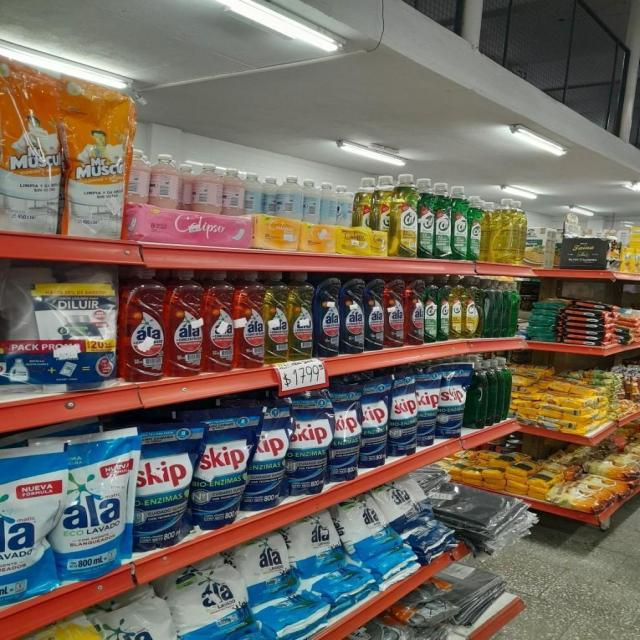ala_conc_amarillo: (265, 270, 288, 364), (289, 271, 313, 360)
ala_conc_azul: (314, 276, 340, 358), (341, 276, 364, 354), (366, 277, 384, 351)
ala_conc_rojo: (120, 267, 164, 382), (166, 269, 204, 378), (204, 270, 234, 373), (235, 270, 264, 369), (385, 278, 405, 348), (406, 278, 424, 346)
cif_conc_bot_amarilla: (393, 173, 418, 258), (373, 175, 392, 259), (355, 176, 374, 258), (464, 277, 481, 339), (451, 277, 463, 340)
cif_conc_botella_verde: (418, 176, 434, 258), (451, 184, 468, 260), (435, 181, 451, 260), (468, 193, 484, 261), (425, 277, 438, 343), (438, 277, 450, 341)
